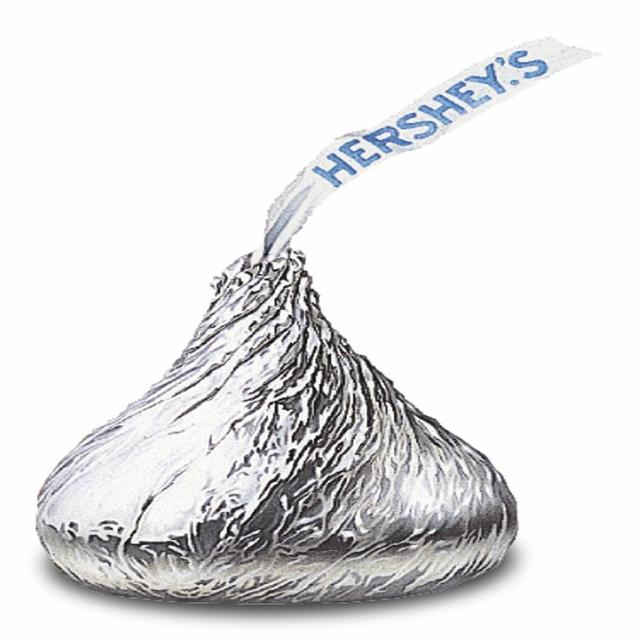kisses: (27, 231, 524, 612)
